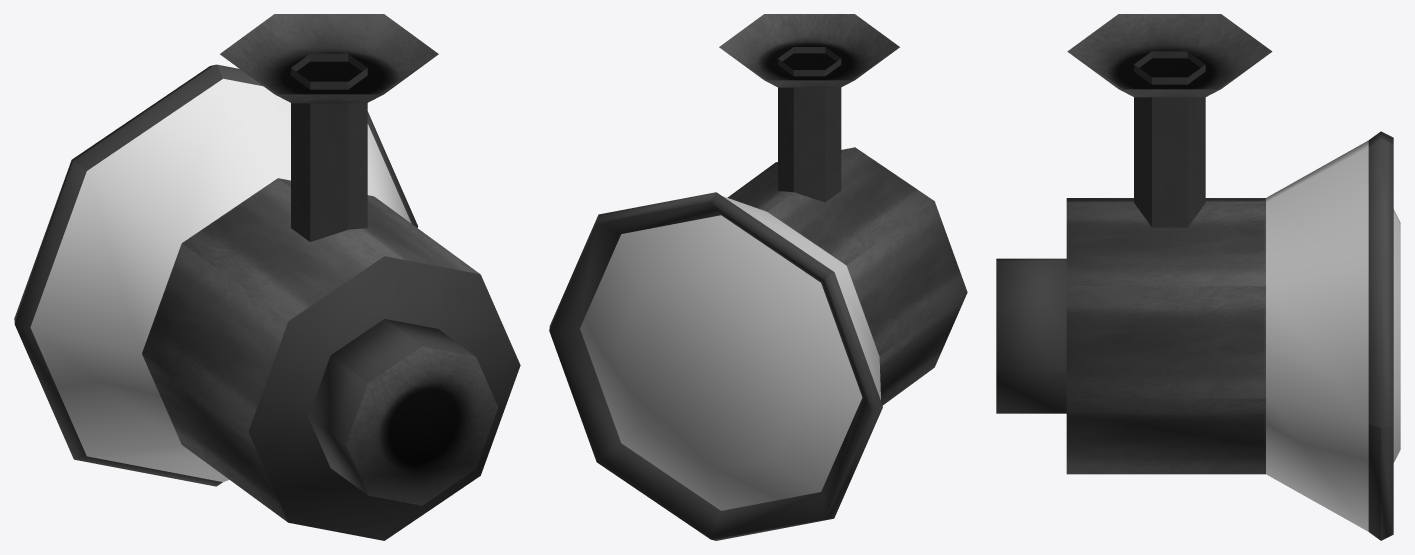
Rendered from Hot Lamp 1.fbx.
3 views of the same model, side by side, from view 1: azimuth 30°, elevation 25°; view 2: azimuth 150°, elevation 25°; view 3: azimuth 270°, elevation 25° (orthographic). The views are drawn at different scales.
Visible parts, largest first — view 1: Circle.001, Hot Lamp; view 2: Circle.001, Hot Lamp; view 3: Circle.001, Hot Lamp.
Part boxes in pixels (left/top/right/bottom): Circle.001: left=14, top=64, right=520, bottom=540; Hot Lamp: left=220, top=14, right=438, bottom=241; Circle.001: left=549, top=147, right=967, bottom=540; Hot Lamp: left=719, top=14, right=899, bottom=202; Circle.001: left=996, top=131, right=1400, bottom=540; Hot Lamp: left=1067, top=14, right=1272, bottom=227.
Bounding box in the file's own units: 19.23 × 23.46 × 17.85.
